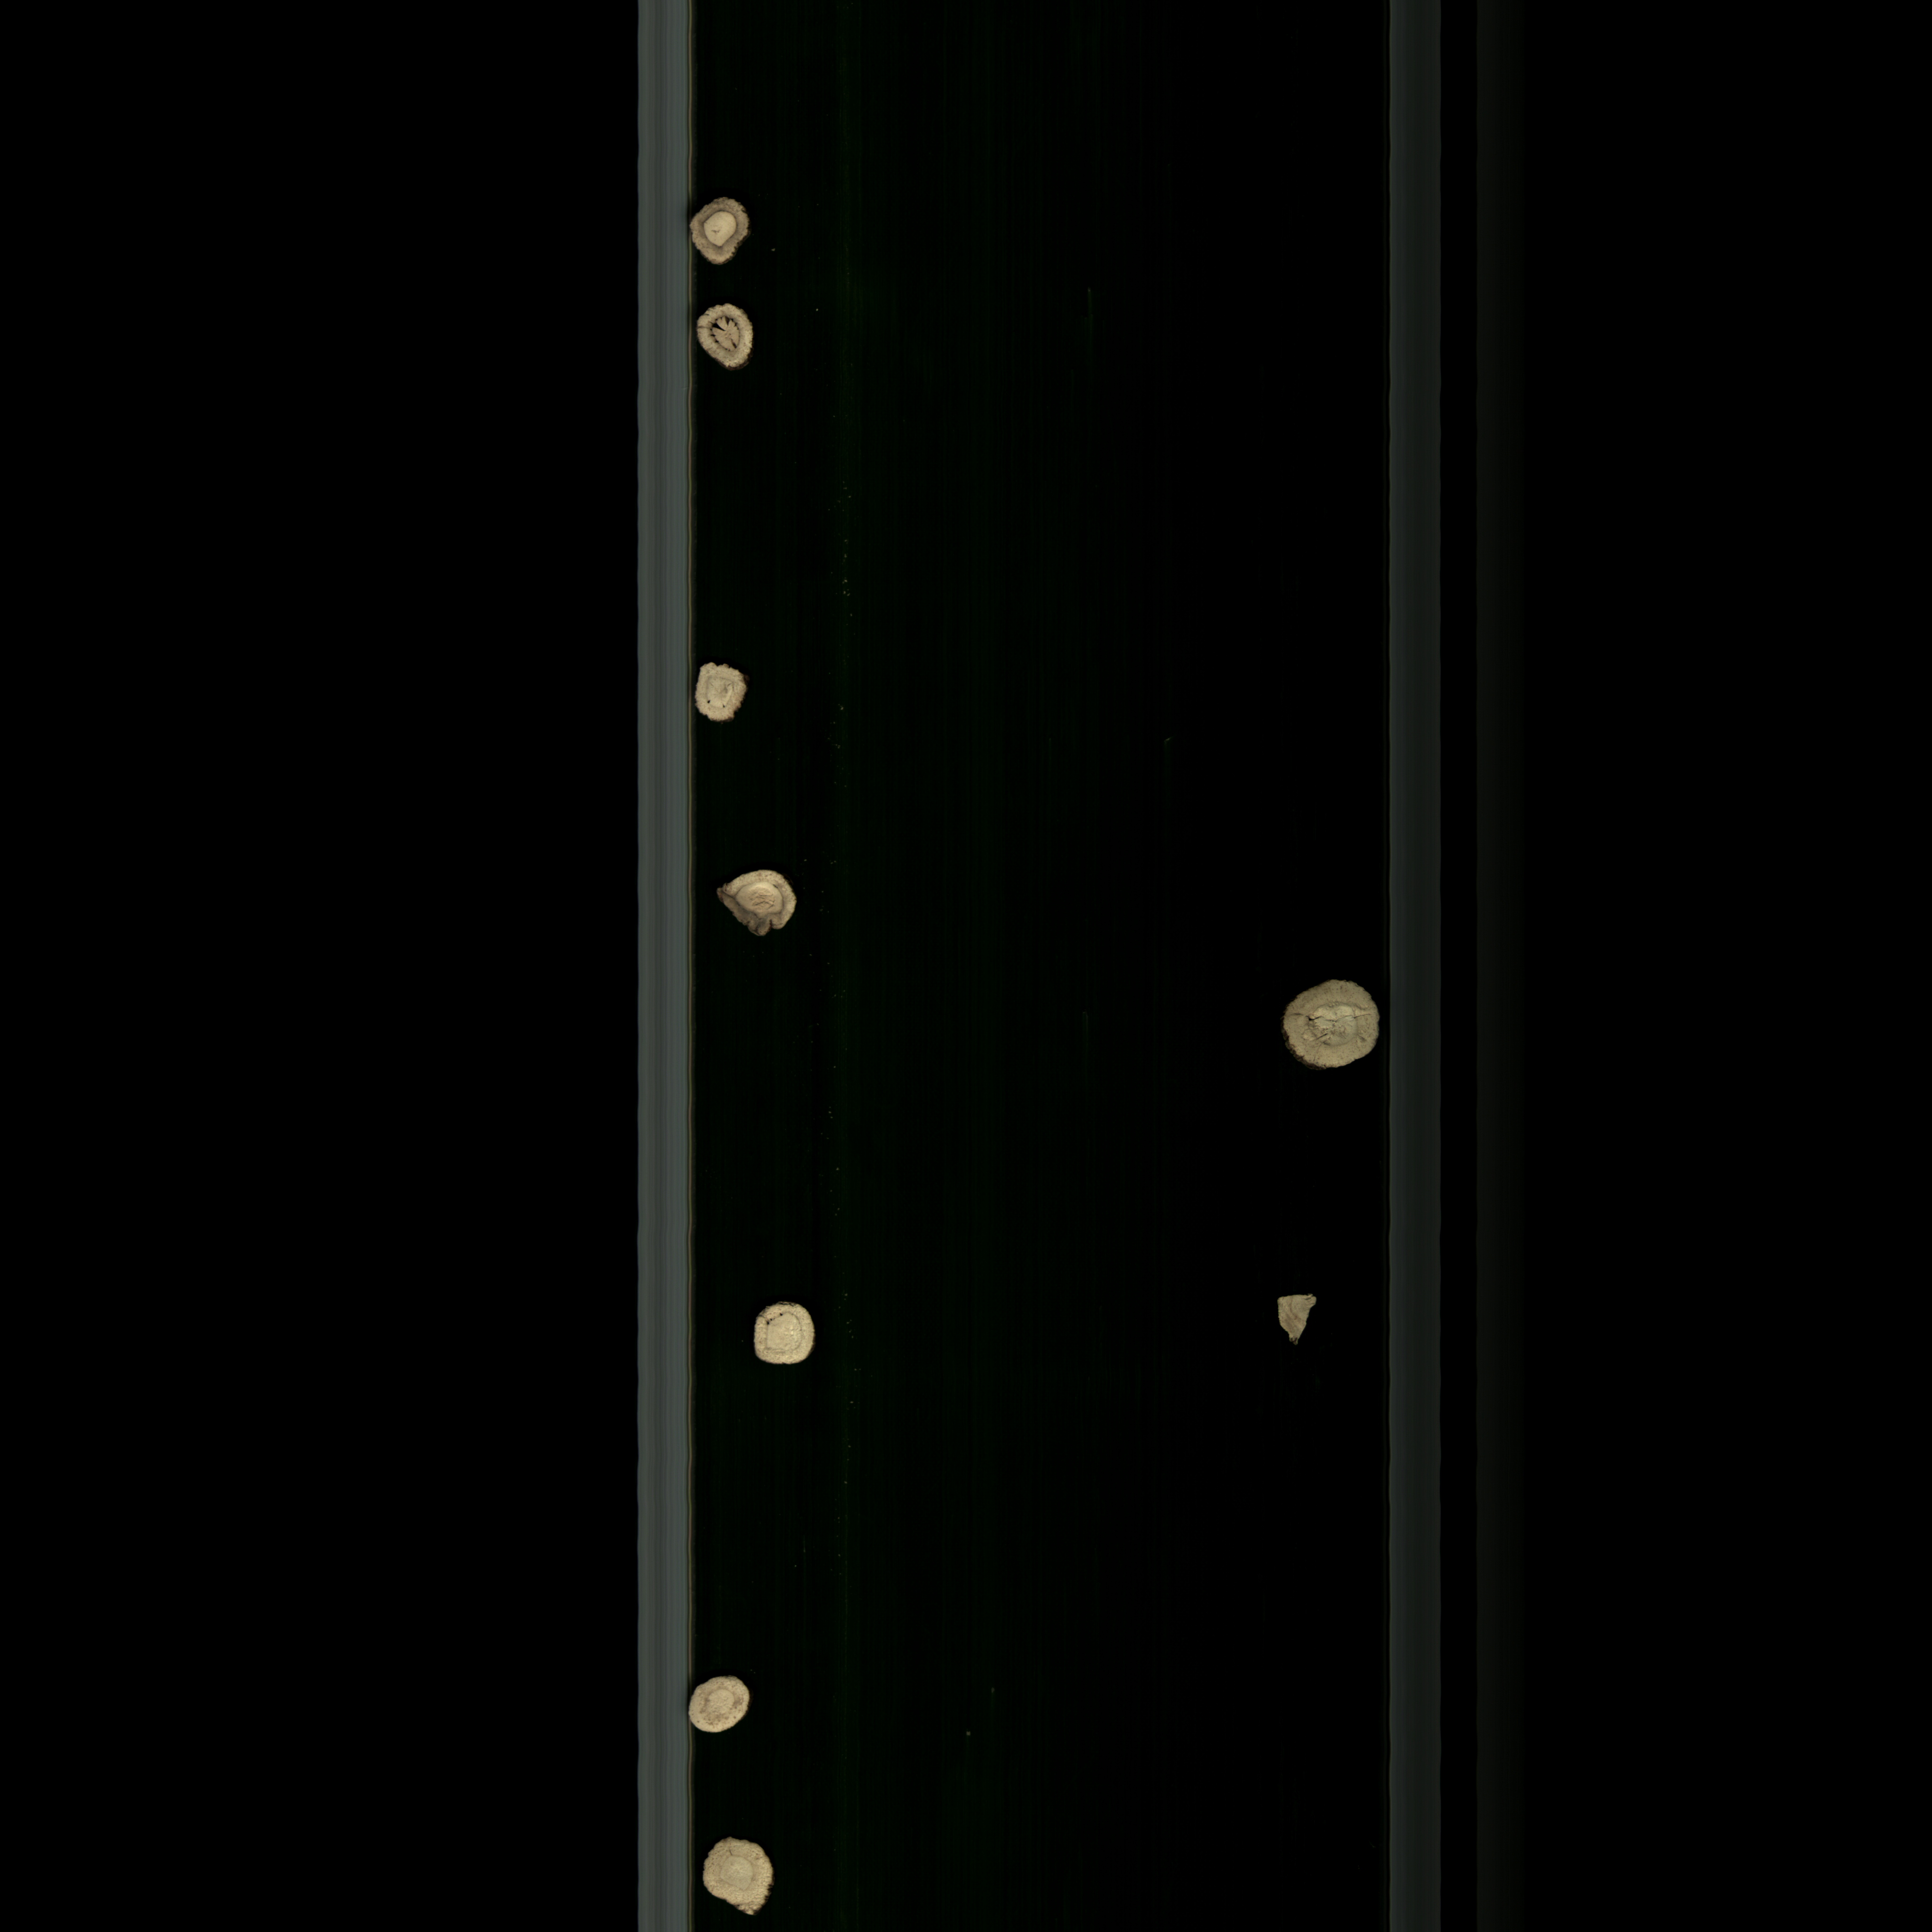debris: (1270, 1286, 1329, 1352)
distortion: (697, 1826, 803, 1927)
hole: (1260, 968, 1389, 1076)
moldy: (713, 860, 807, 945), (690, 297, 770, 373), (690, 186, 757, 272)
